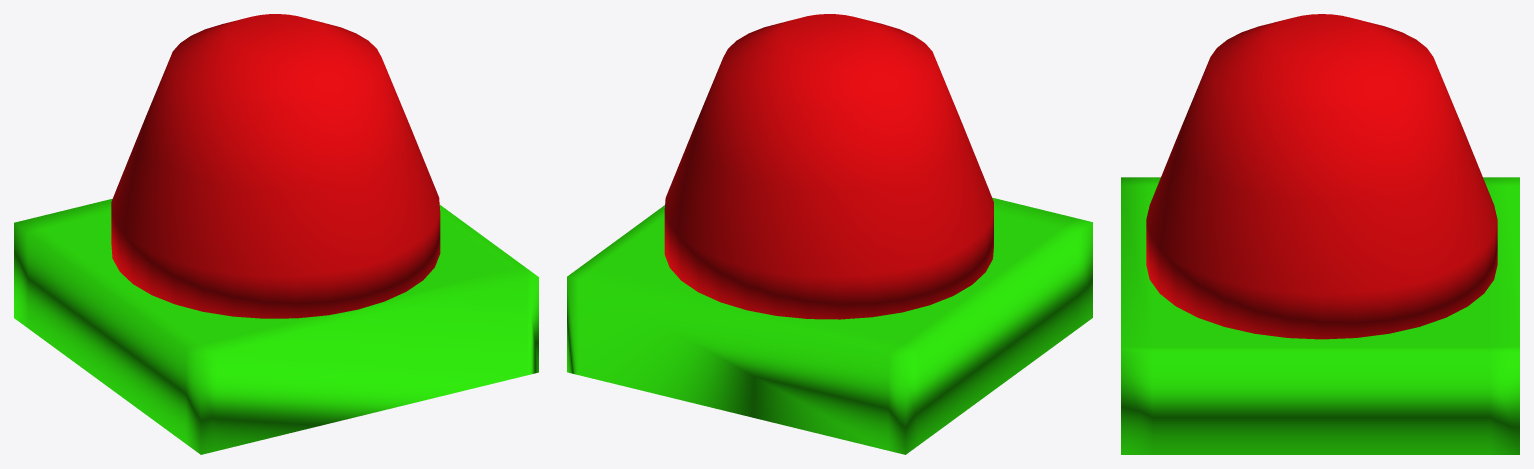
File: LUZ ULTIMA HABITACIONfbx_v2.fbx
The picture shows the model from 3 angles, left to right: view 1: azimuth 30°, elevation 25°; view 2: azimuth 150°, elevation 25°; view 3: azimuth 270°, elevation 25°; orthographic projection. The views are drawn at different scales.
Visible parts, largest first — view 1: Cylinder; view 2: Cylinder; view 3: Cylinder.
Boxes of the visible parts, bbox=[...] form: Cylinder: bbox=[14, 14, 538, 454]; Cylinder: bbox=[567, 14, 1092, 454]; Cylinder: bbox=[1121, 14, 1519, 454].
Bounding box in the file's own units: 112 × 98.37 × 107.
